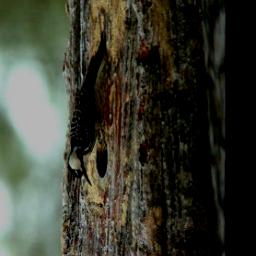Woodpecker: (62, 20, 116, 192)
